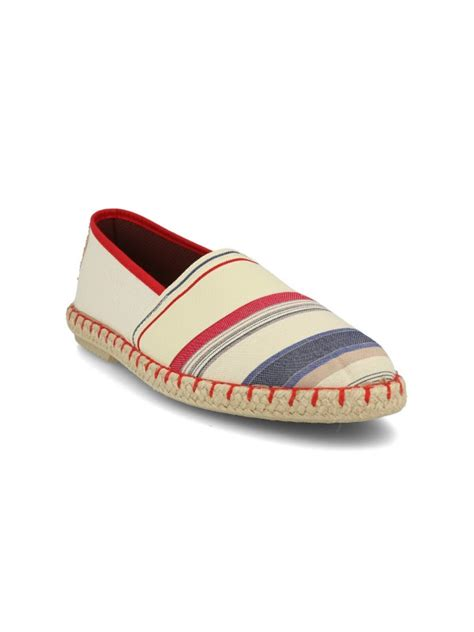nylon: (67, 206, 398, 393)
